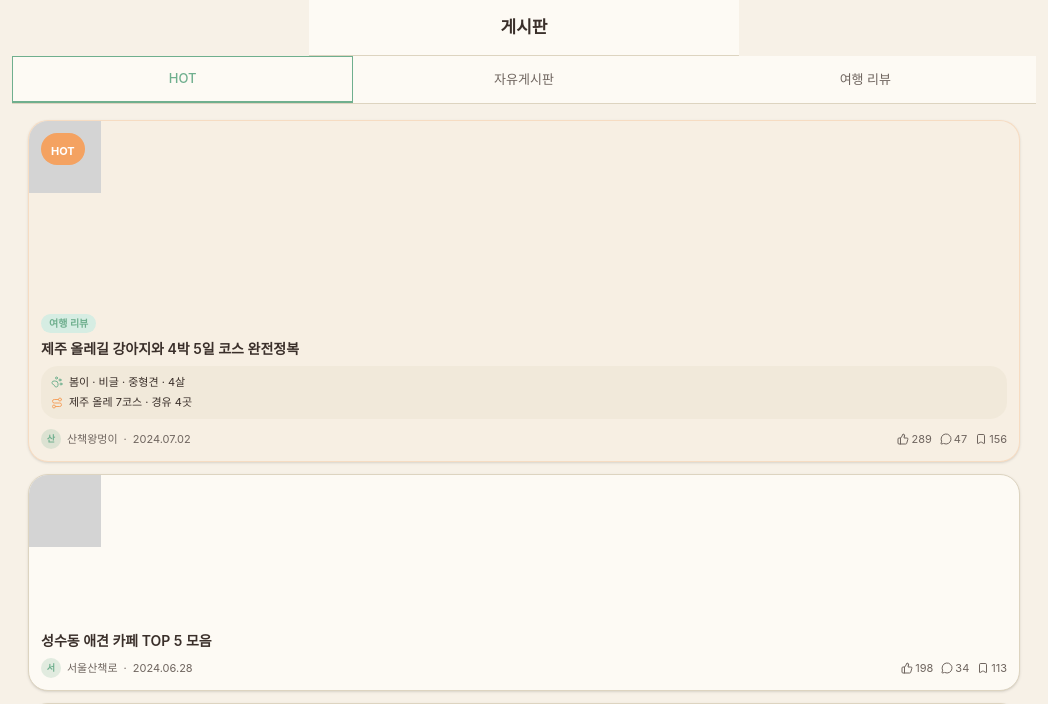
Test case: CommunityScreen › uses a distinct travel review card in the HOT feed and keeps it out of the free tab
Expected: the text "여행 리뷰" is shown, [41,314,96,332]
Click the button "자유게시판" at (524, 79), box [353,56,695,102]
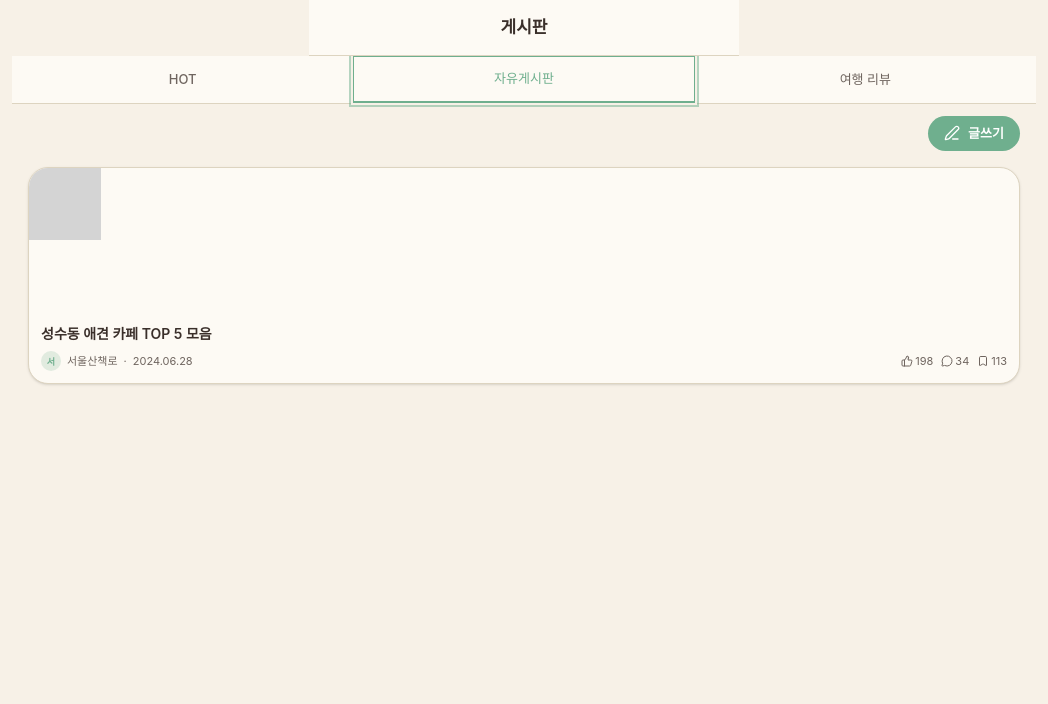
Expected: the heading "성수동 애견 카페 TOP 5 모음" is shown, [41,325,212,342]
Result: the button "제주 올레길 강아지와 4박 5일 코스 완전정복" is gone
